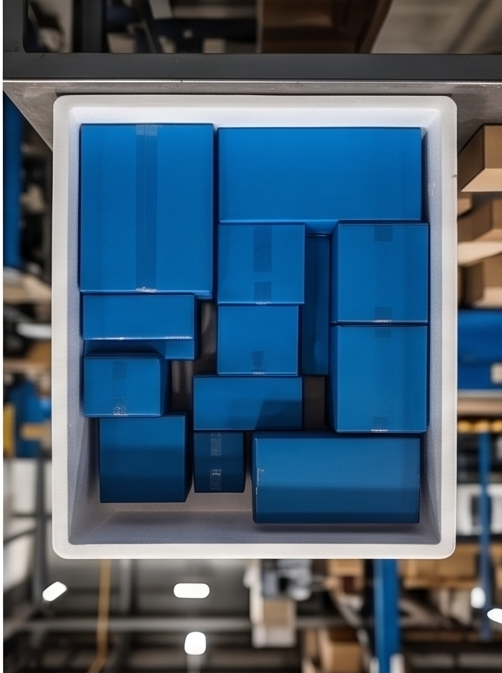blue_box: (80, 123, 219, 303), (216, 126, 427, 241), (255, 433, 422, 522), (329, 321, 429, 429), (330, 220, 432, 321), (100, 416, 193, 504), (219, 224, 305, 303), (194, 373, 303, 431), (221, 300, 301, 374), (82, 355, 170, 419), (83, 294, 198, 339), (194, 431, 246, 496), (85, 338, 196, 362), (301, 300, 331, 370), (307, 234, 332, 304)
container_box: (54, 93, 456, 559)
